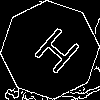H: (25, 25, 83, 84)
